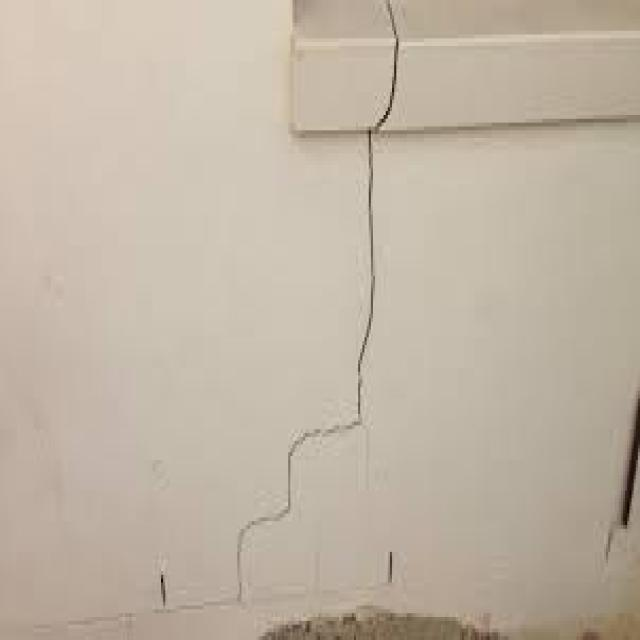Crack: (229, 406, 356, 602), (351, 0, 400, 425)
